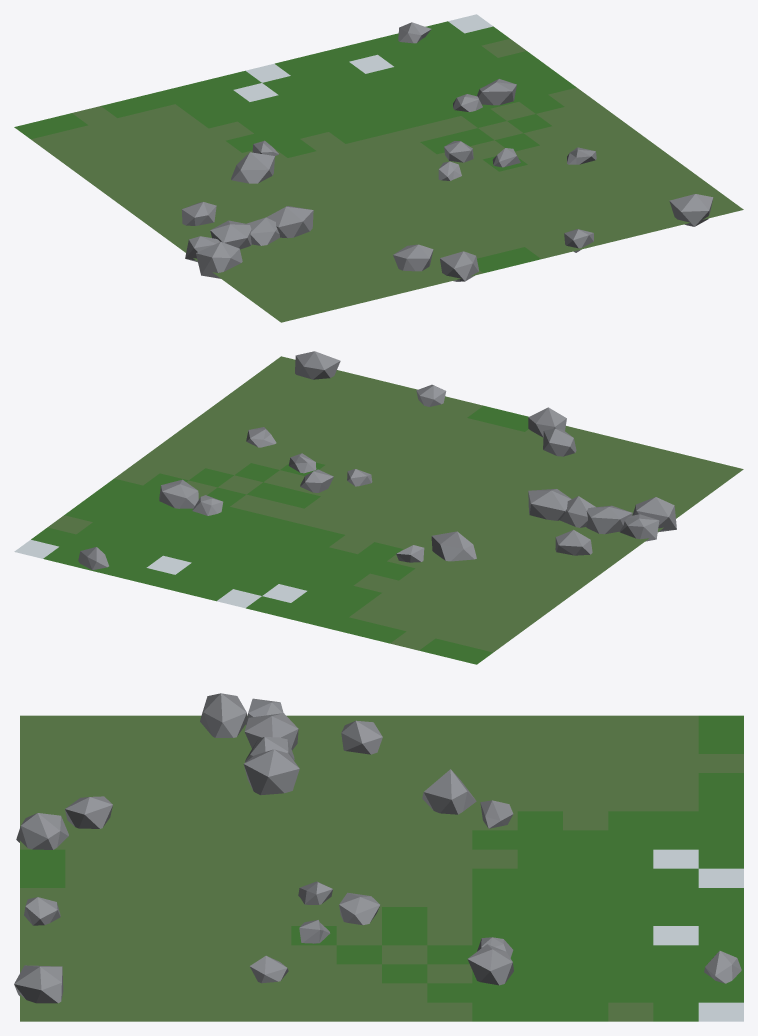
Rendered from chunk_8_2.glb.
3 renders of one model, top to bottom at view 1: azimuth 30°, elevation 25°; view 2: azimuth 150°, elevation 25°; view 3: azimuth 270°, elevation 25°, orthographic. The views are drawn at different scales.
Parts seen in each view (by area): view 1: chunk_8_2; view 2: chunk_8_2; view 3: chunk_8_2.
Part boxes in pixels (x1=…): chunk_8_2: x1=14, y1=14, x2=743, y2=322; chunk_8_2: x1=14, y1=351, x2=743, y2=664; chunk_8_2: x1=14, y1=693, x2=743, y2=1021.
Bounding box in the file's own units: 16.23 × 1.25 × 16.13.
